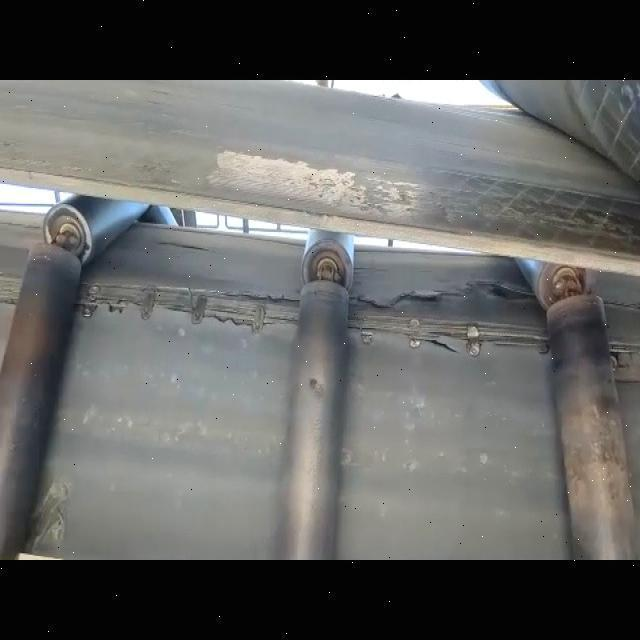Tear: (346, 278, 552, 360), (73, 272, 307, 329), (151, 238, 215, 260), (418, 334, 463, 358), (0, 267, 23, 310)
